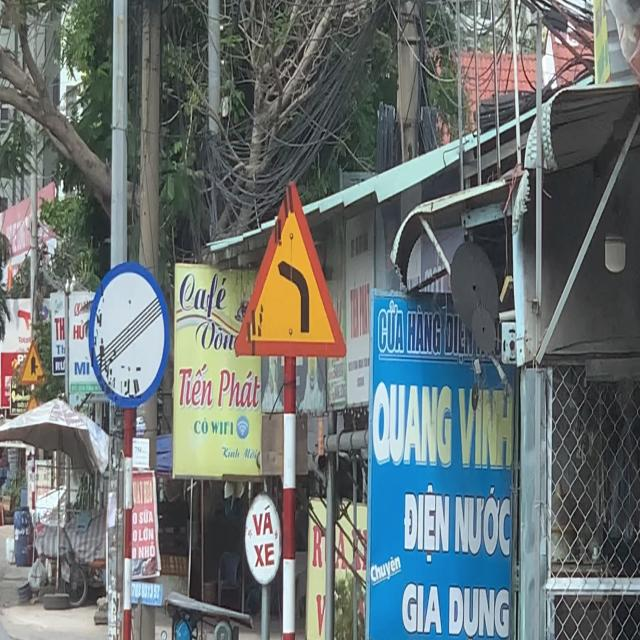Het tat ca lenh cam: (88, 261, 170, 408)
Nguy hiem: (234, 179, 348, 360)
